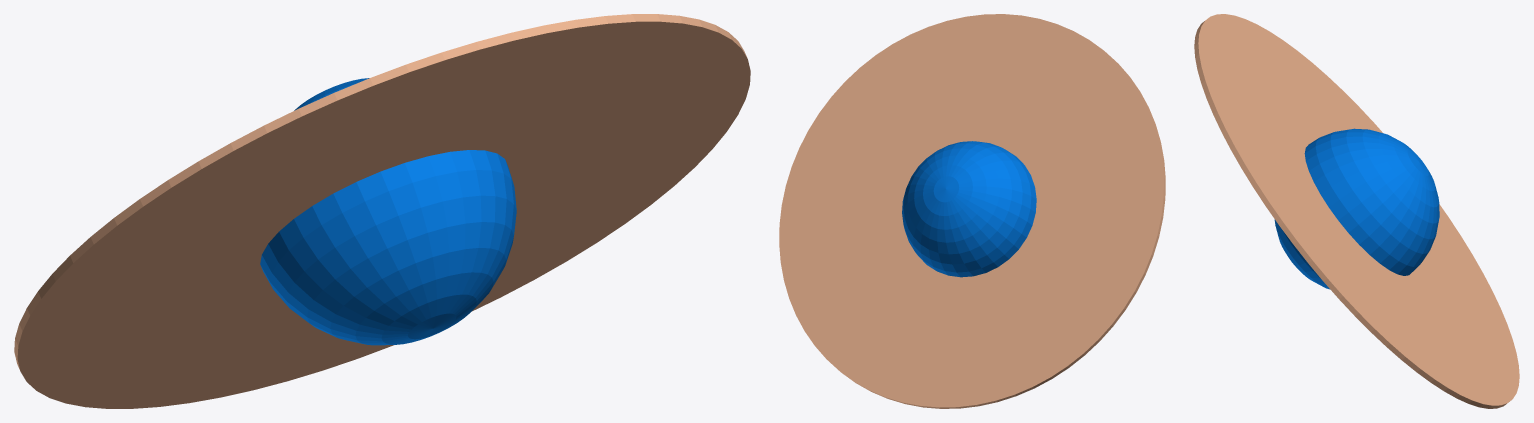
File: PlanetIcon.fbx
3 renders of one model, left to right at view 1: azimuth 30°, elevation 25°; view 2: azimuth 150°, elevation 25°; view 3: azimuth 270°, elevation 25°, orthographic. The views are drawn at different scales.
Parts seen in each view (by area): view 1: Sphere; view 2: Sphere; view 3: Sphere.
Boxes of the visible parts, bbox=[...] form: Sphere: bbox=[14, 14, 750, 408]; Sphere: bbox=[779, 14, 1165, 408]; Sphere: bbox=[1194, 14, 1519, 408].
Bounding box in the file's own units: 263 × 200 × 175.
